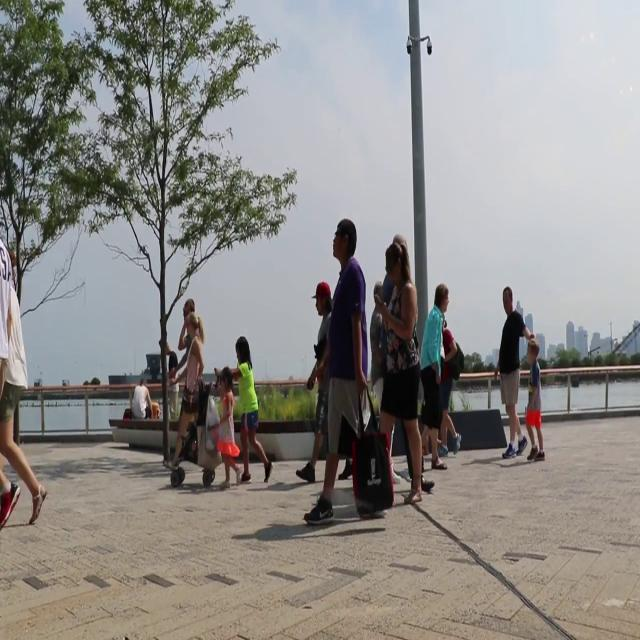normal: (304, 218, 374, 542), (492, 282, 530, 465), (230, 336, 272, 487)
